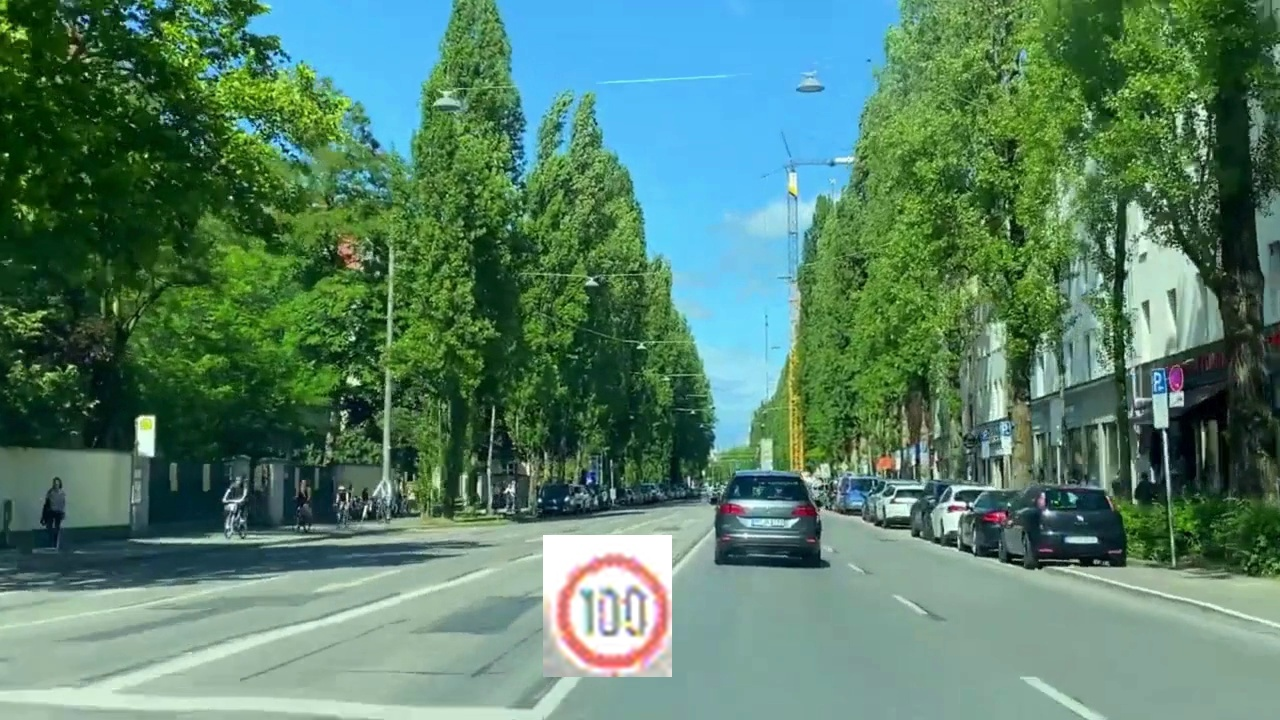Speed 100: (543, 535, 672, 677)
